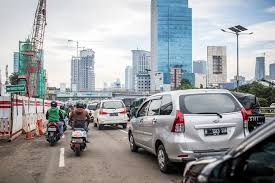plate: (204, 128, 227, 136), (72, 138, 82, 143), (47, 127, 56, 131), (108, 113, 117, 116)
